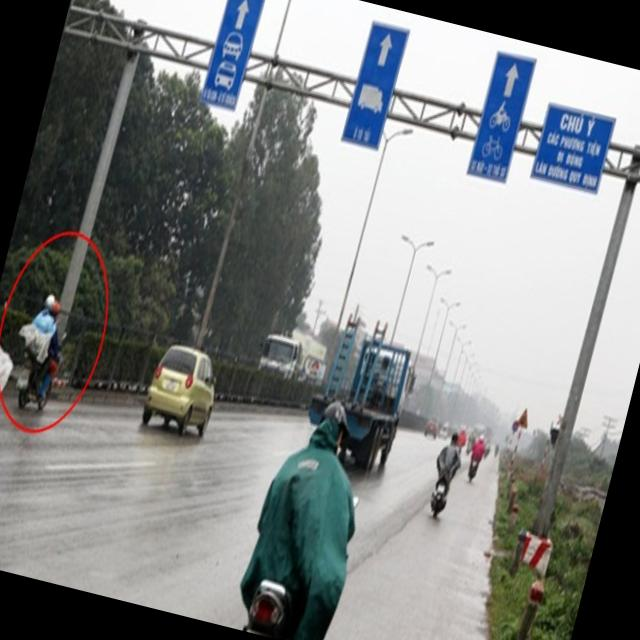ben: (298, 300, 432, 481)
car: (132, 322, 237, 449)
motobyte: (227, 370, 396, 640), (0, 281, 83, 424), (421, 414, 473, 529), (461, 425, 492, 493)
